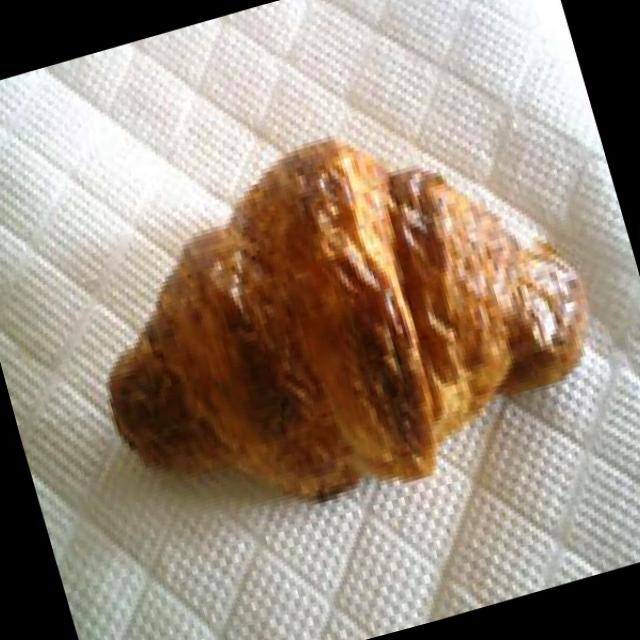Croissant: (41, 43, 632, 556)
